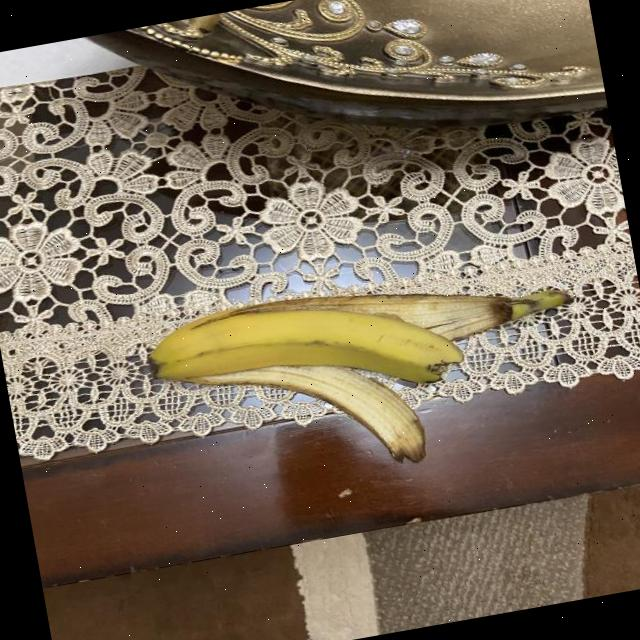banana-peel: (140, 248, 594, 506), (140, 269, 468, 432), (171, 335, 430, 502)
